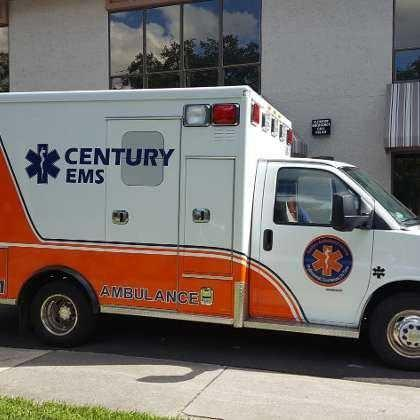car: (0, 84, 419, 371)
